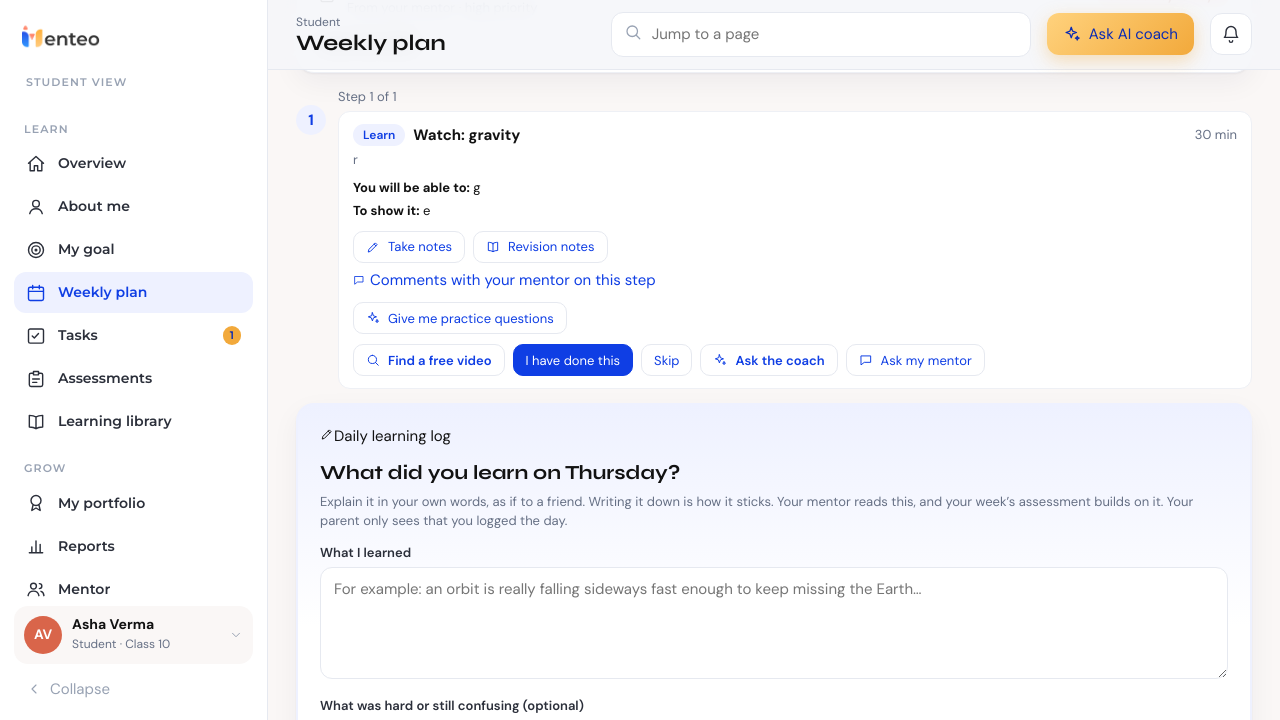
Test case: student: working with their mentor › asks the mentor about a step of the plan, and sees the mentor’s tasks due that day
(page scrolled)
Click the button "Ask my mentor".
click(915, 360)  # box [846,344,985,376]
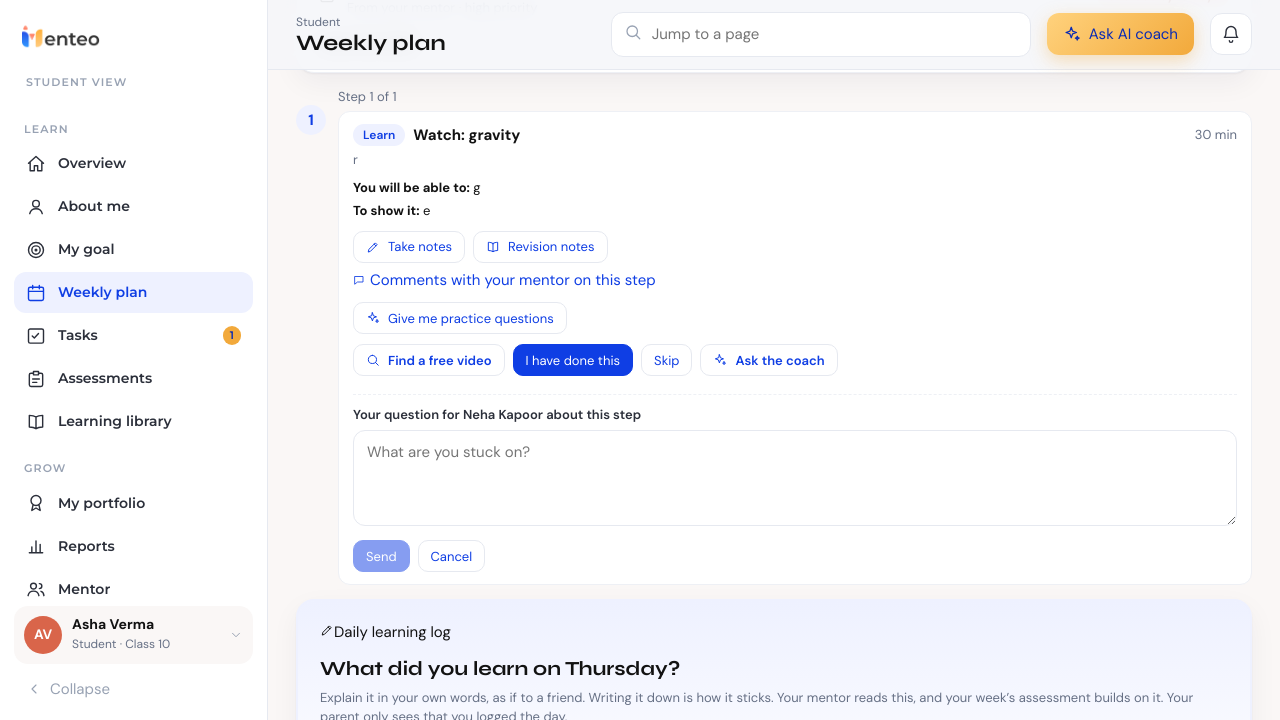
Type "Which formula is this?" into the text box labelled "Your question for Neha Kapoor about this step".
click(795, 478); type("Which formula is this?")  # box [353,430,1237,526]
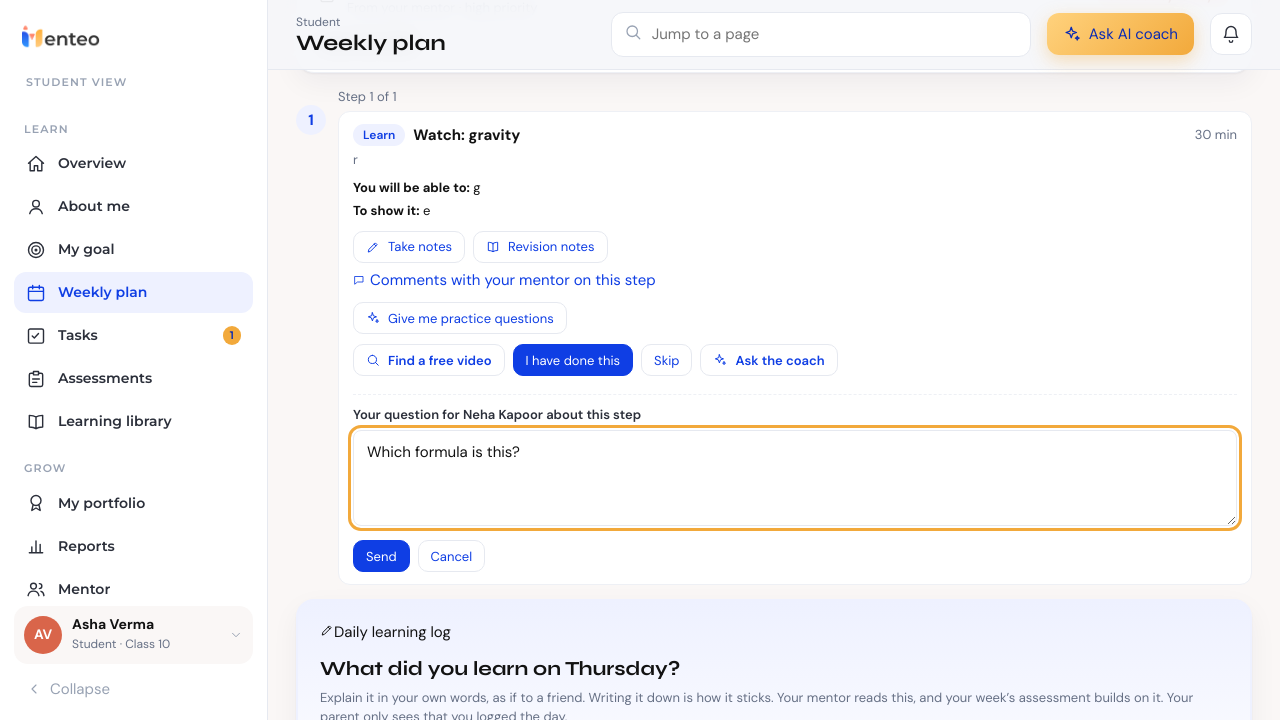
Click the button "Send".
click(381, 556)  # box [353,540,410,572]
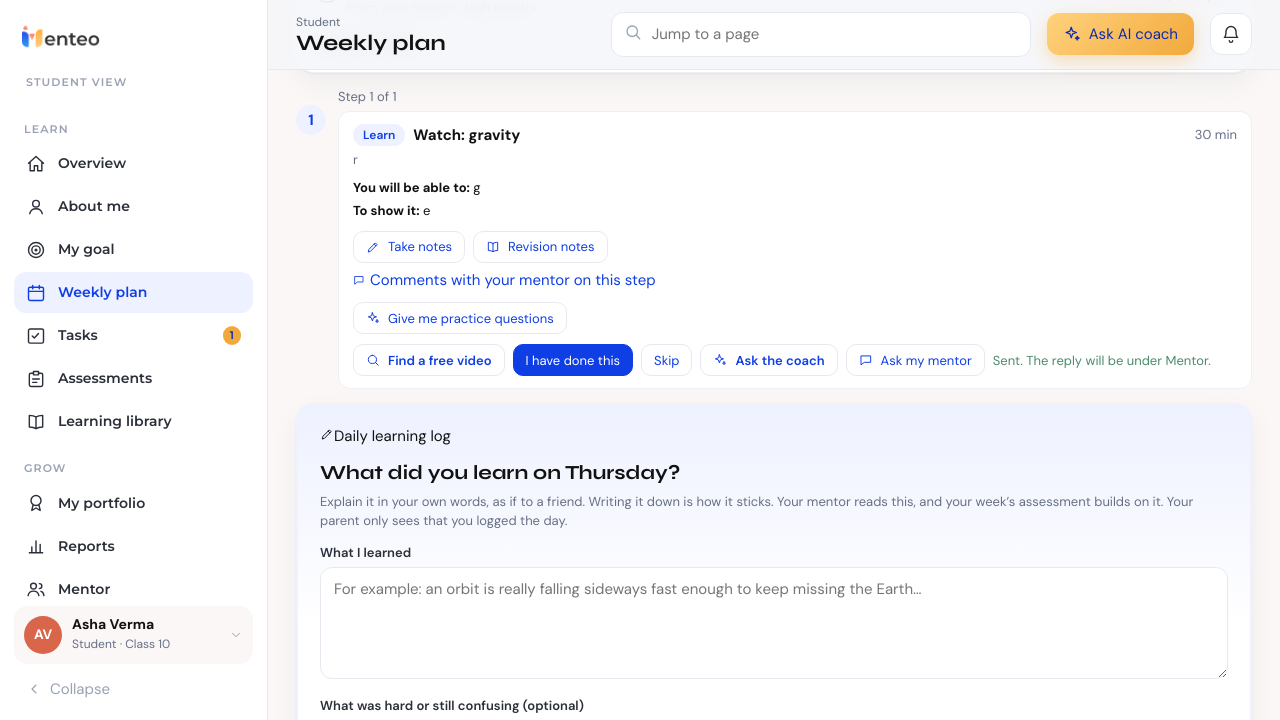
Expected: the text "Sent. The reply will be under Mentor." is shown, [993,350,1211,370]
